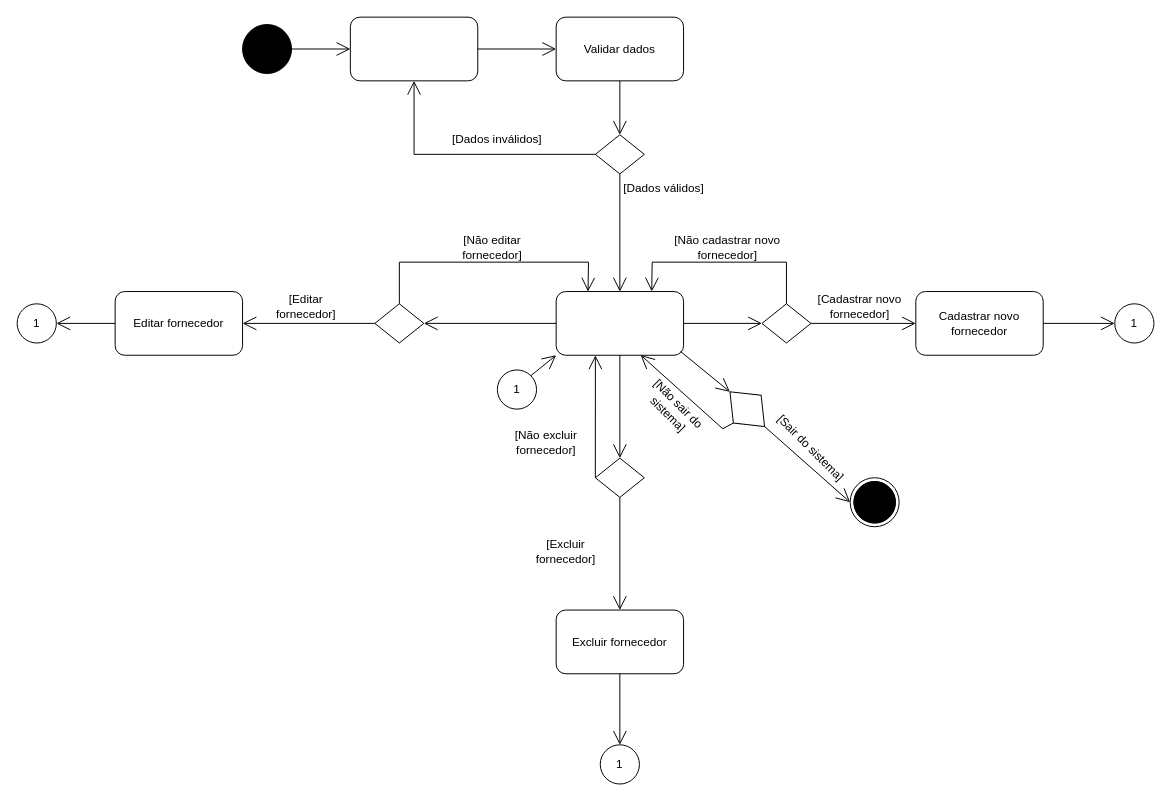
The diagram is 1171 pixels wide and 802 high, and some of its shapes have lost their labels. Each missing label, with the centre of its shape:
Receber dados: [413,48]
Visualizar fornecedores: [619,323]
